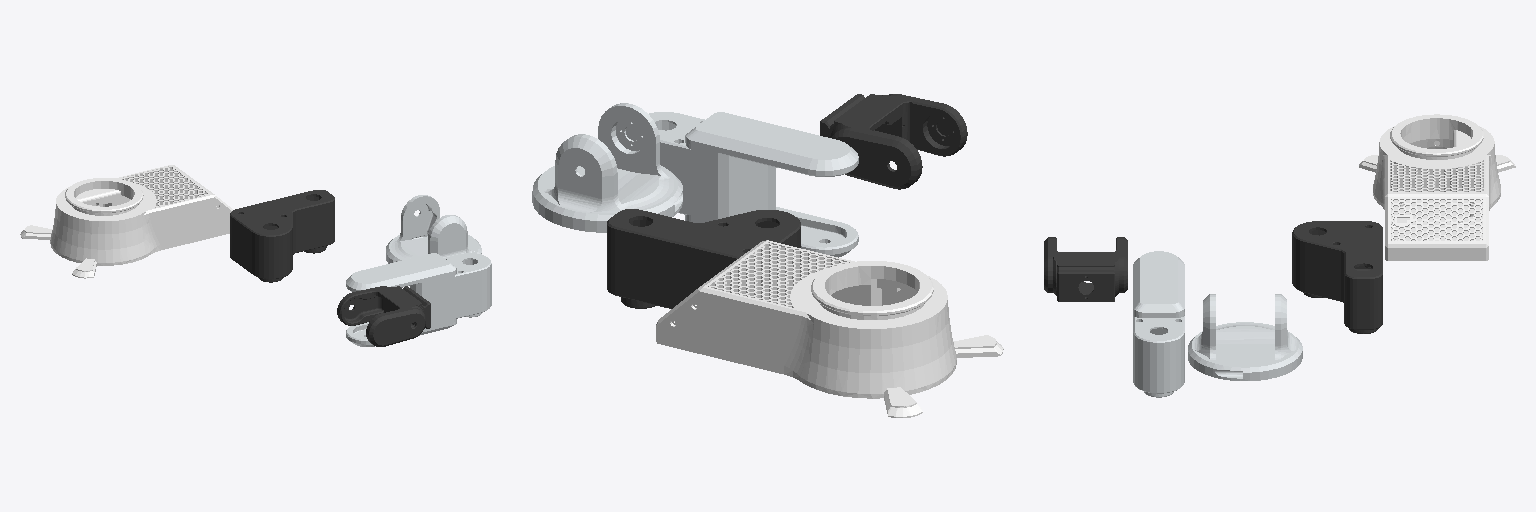
The robot description file, URDF, robot "XC-URDF":
<?xml version="1.0" encoding="utf-8"?>
<!-- This URDF was automatically created by SolidWorks to URDF Exporter! Originally created by Stephen Brawner (brawner@gmail.com) 
     Commit Version: 1.6.0-4-g7f85cfe  Build Version: 1.6.7995.38578
     For more information, please see http://wiki.ros.org/sw_urdf_exporter -->
<robot
  name="XC-URDF">
  <link
    name="base_link">
    <inertial>
      <origin
        xyz="-0.00197167480169581 -0.000122347580332399 0.00828700108635093"
        rpy="0 0 0" />
      <mass
        value="1.38347431367086" />
      <inertia
        ixx="0.00146738564724886"
        ixy="-3.42395260263996E-06"
        ixz="-1.50060721917905E-05"
        iyy="0.00272256204808231"
        iyz="2.6934971330369E-06"
        izz="0.00387596146259179" />
    </inertial>
    <visual>
      <origin
        xyz="0 0 0"
        rpy="0 0 0" />
      <geometry>
        <mesh
          filename="package://XC-URDF/meshes/base_link.STL" />
      </geometry>
      <material
        name="">
        <color
          rgba="1 1 1 1" />
      </material>
    </visual>
    <collision>
      <origin
        xyz="0 0 0"
        rpy="0 0 0" />
      <geometry>
        <mesh
          filename="package://XC-URDF/meshes/base_link.STL" />
      </geometry>
    </collision>
  </link>
  <link
    name="Empty_Link1">
    <inertial>
      <origin
        xyz="-7.62788679442572E-10 0.00158038832427439 0.00599232695785889"
        rpy="0 0 0" />
      <mass
        value="0.0272846657527921" />
      <inertia
        ixx="4.07334324951061E-06"
        ixy="3.91827579527818E-14"
        ixz="3.98509869637933E-13"
        iyy="3.82468808639562E-06"
        iyz="-5.10828322956161E-07"
        izz="2.61087120188963E-06" />
    </inertial>
    <visual>
      <origin
        xyz="0 0 0"
        rpy="0 0 0" />
      <geometry>
        <mesh
          filename="package://XC-URDF/meshes/Empty_Link1.STL" />
      </geometry>
      <material
        name="">
        <color
          rgba="0.898039215686275 0.917647058823529 0.929411764705882 1" />
      </material>
    </visual>
    <collision>
      <origin
        xyz="0 0 0"
        rpy="0 0 0" />
      <geometry>
        <mesh
          filename="package://XC-URDF/meshes/Empty_Link1.STL" />
      </geometry>
    </collision>
  </link>
  <joint
    name="L1"
    type="continuous">
    <origin
      xyz="0.0769999999999979 0.0334999999999998 -0.0925000000000017"
      rpy="0 0 0" />
    <parent
      link="base_link" />
    <child
      link="Empty_Link1" />
    <axis
      xyz="0 0 1" />
  </joint>
  <link
    name="Empty_Link2">
    <inertial>
      <origin
        xyz="7.6278881822045E-10 -0.00158038832427439 0.00599232695785888"
        rpy="0 0 0" />
      <mass
        value="0.0272846657527921" />
      <inertia
        ixx="4.0733432495106E-06"
        ixy="3.91827703134016E-14"
        ixz="-3.98509904538453E-13"
        iyy="3.82468808639562E-06"
        iyz="5.10828322956161E-07"
        izz="2.61087120188962E-06" />
    </inertial>
    <visual>
      <origin
        xyz="0 0 0"
        rpy="0 0 0" />
      <geometry>
        <mesh
          filename="package://XC-URDF/meshes/Empty_Link2.STL" />
      </geometry>
      <material
        name="">
        <color
          rgba="0.898039215686275 0.917647058823529 0.929411764705882 1" />
      </material>
    </visual>
    <collision>
      <origin
        xyz="0 0 0"
        rpy="0 0 0" />
      <geometry>
        <mesh
          filename="package://XC-URDF/meshes/Empty_Link2.STL" />
      </geometry>
    </collision>
  </link>
  <joint
    name="LR1"
    type="continuous">
    <origin
      xyz="0.076999999999998 -0.0334999999999996 -0.0925000000000017"
      rpy="0 0 0" />
    <parent
      link="base_link" />
    <child
      link="Empty_Link2" />
    <axis
      xyz="0 0 1" />
  </joint>
  <link
    name="Empty_Link3">
    <inertial>
      <origin
        xyz="3.19437892623564E-07 -8.93711913050599E-05 2.30903450500544E-07"
        rpy="0 0 0" />
      <mass
        value="0.0758772106233843" />
      <inertia
        ixx="2.14000230411095E-05"
        ixy="-8.97611419511614E-12"
        ixz="-7.09406194543137E-10"
        iyy="3.71665775309804E-05"
        iyz="5.99767599321799E-12"
        izz="2.14003516816011E-05" />
    </inertial>
    <visual>
      <origin
        xyz="0 0 0"
        rpy="0 0 0" />
      <geometry>
        <mesh
          filename="package://XC-URDF/meshes/Empty_Link3.STL" />
      </geometry>
      <material
        name="">
        <color
          rgba="0.298039215686275 0.298039215686275 0.298039215686275 1" />
      </material>
    </visual>
    <collision>
      <origin
        xyz="0 0 0"
        rpy="0 0 0" />
      <geometry>
        <mesh
          filename="package://XC-URDF/meshes/Empty_Link3.STL" />
      </geometry>
    </collision>
  </link>
  <joint
    name="LB2"
    type="continuous">
    <origin
      xyz="-0.0650000000000016 0.09 -0.0734999999999978"
      rpy="0 0 0" />
    <parent
      link="base_link" />
    <child
      link="Empty_Link3" />
    <axis
      xyz="0 -1 0" />
  </joint>
  <link
    name="Empty_Link4">
    <inertial>
      <origin
        xyz="2.89018891222459E-07 2.6800196192096E-07 -8.93711913050599E-05"
        rpy="0 0 0" />
      <mass
        value="0.0758772106233844" />
      <inertia
        ixx="2.14000664475817E-05"
        ixy="-7.1807948817931E-10"
        ixz="4.12261279556443E-12"
        iyy="2.14003082751291E-05"
        iyz="-9.977314567107E-12"
        izz="3.71665775309805E-05" />
    </inertial>
    <visual>
      <origin
        xyz="0 0 0"
        rpy="0 0 0" />
      <geometry>
        <mesh
          filename="package://XC-URDF/meshes/Empty_Link4.STL" />
      </geometry>
      <material
        name="">
        <color
          rgba="0.298039215686275 0.298039215686275 0.298039215686275 1" />
      </material>
    </visual>
    <collision>
      <origin
        xyz="0 0 0"
        rpy="0 0 0" />
      <geometry>
        <mesh
          filename="package://XC-URDF/meshes/Empty_Link4.STL" />
      </geometry>
    </collision>
  </link>
  <joint
    name="RB2"
    type="continuous">
    <origin
      xyz="-0.0650000000000015 -0.0900000000000001 -0.0734999999999985"
      rpy="1.5707963267949 0 0" />
    <parent
      link="base_link" />
    <child
      link="Empty_Link4" />
    <axis
      xyz="0 0 -1" />
  </joint>
</robot>

--- Facts derived from the render (not from the file) ---
Views: 3 orthographic renders of the robot side by side, from view 1: azimuth 30°, elevation 25°; view 2: azimuth 150°, elevation 25°; view 3: azimuth 270°, elevation 25°.
Model XC-URDF with 5 links and 4 joints (4 continuous), rooted at base_link, posed every joint at zero.
Visible links, largest first — view 1: base_link, Empty_Link3, Empty_Link2, Empty_Link4, Empty_Link1; view 2: base_link, Empty_Link2, Empty_Link3, Empty_Link1, Empty_Link4; view 3: base_link, Empty_Link3, Empty_Link2, Empty_Link1, Empty_Link4.
Link boxes in pixels (bbox=[...]): base_link: bbox=[20, 165, 232, 278]; Empty_Link3: bbox=[230, 190, 334, 282]; Empty_Link2: bbox=[346, 253, 491, 346]; Empty_Link4: bbox=[337, 286, 430, 346]; Empty_Link1: bbox=[386, 195, 481, 263]; base_link: bbox=[656, 240, 1003, 417]; Empty_Link2: bbox=[649, 112, 858, 257]; Empty_Link3: bbox=[607, 209, 800, 308]; Empty_Link1: bbox=[532, 103, 682, 232]; Empty_Link4: bbox=[820, 94, 967, 189]; base_link: bbox=[1359, 114, 1515, 260]; Empty_Link3: bbox=[1292, 221, 1382, 333]; Empty_Link2: bbox=[1133, 251, 1184, 397]; Empty_Link1: bbox=[1188, 294, 1302, 380]; Empty_Link4: bbox=[1044, 237, 1127, 301].
Size in the robot's own frame: 0.3728 by 0.366 by 0.0995 metres.
Meshes: 5 distinct files referenced, 5 mesh visuals loaded (5 binary STL).
